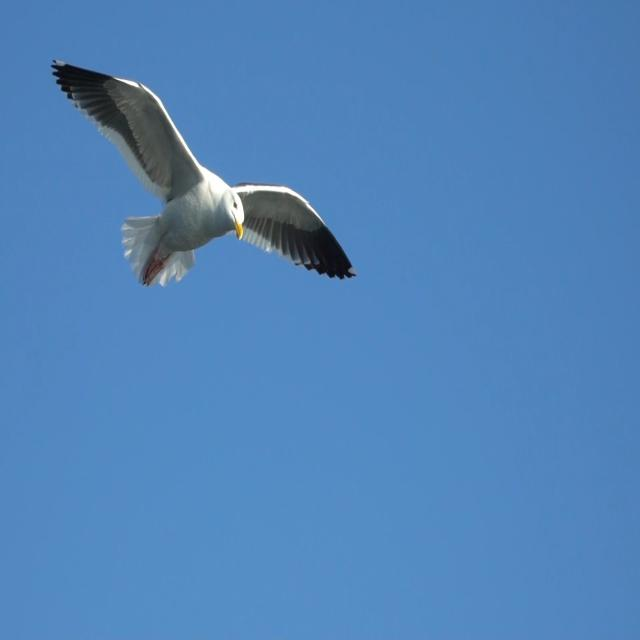bird: (48, 50, 362, 320)
